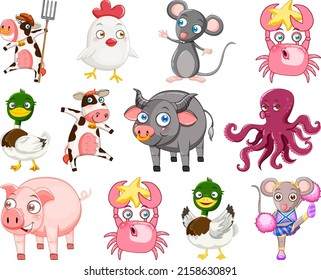animal: (124, 86, 217, 163), (3, 177, 90, 254), (233, 88, 313, 163), (100, 177, 172, 260), (246, 176, 321, 255), (157, 4, 229, 85), (252, 3, 319, 83), (60, 84, 116, 168), (1, 5, 58, 79)
bird: (175, 177, 246, 257), (75, 2, 139, 80), (1, 85, 52, 173)
